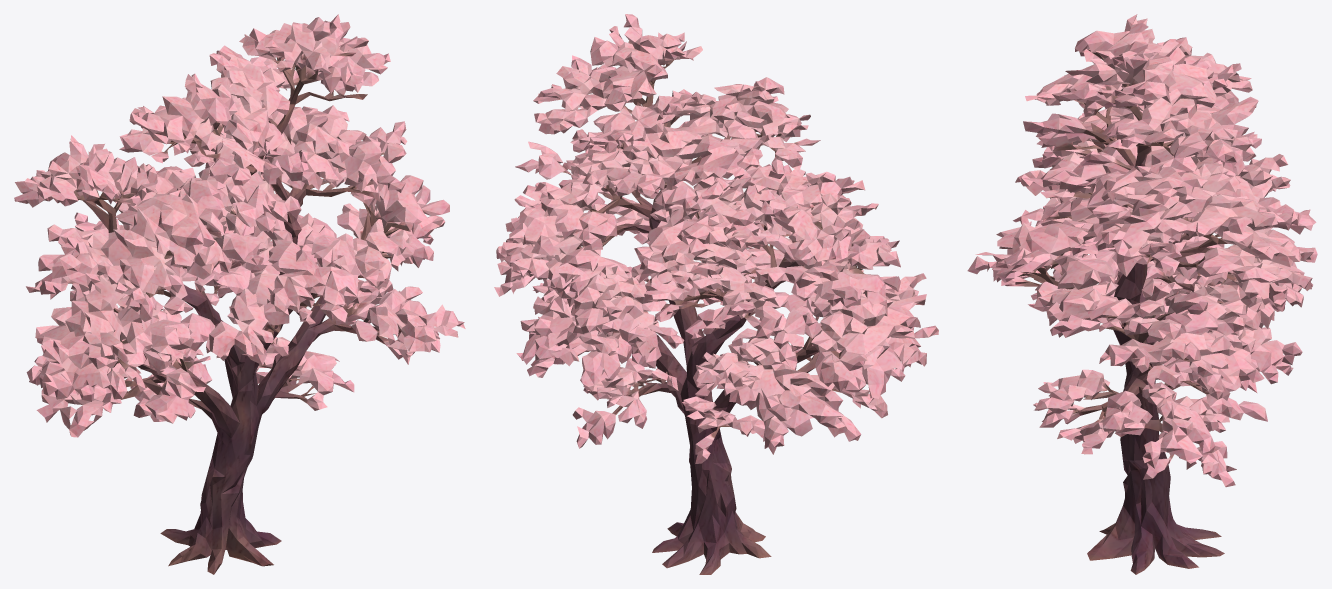
The model's file is source.glb.
3 views of the same model, side by side, from view 1: azimuth 30°, elevation 25°; view 2: azimuth 150°, elevation 25°; view 3: azimuth 270°, elevation 25° (orthographic). The views are drawn at different scales.
Parts seen in each view (by area): view 1: model; view 2: model; view 3: model.
Boxes of the visible parts, bbox=[...] form: model: bbox=[14, 14, 465, 574]; model: bbox=[494, 14, 938, 574]; model: bbox=[967, 14, 1317, 574].
Size of the model in its own units: 1.6 by 1.9 by 1.11.
Materials: 1 (1 with a texture image).
